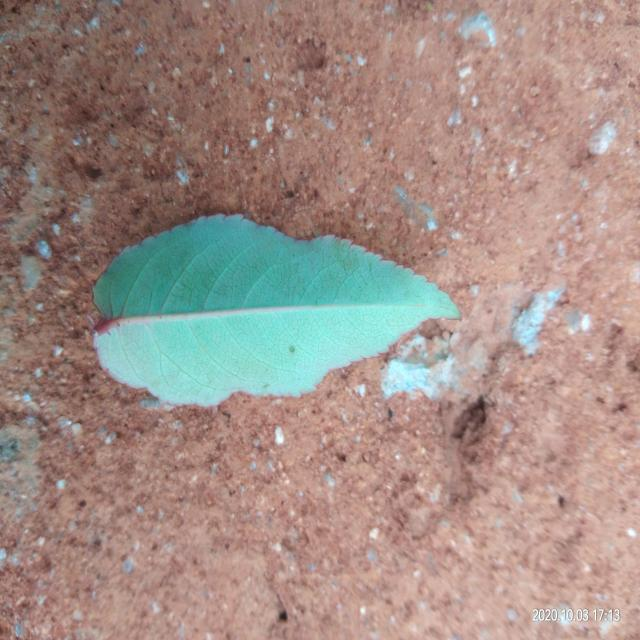rose: (94, 215, 459, 407)
